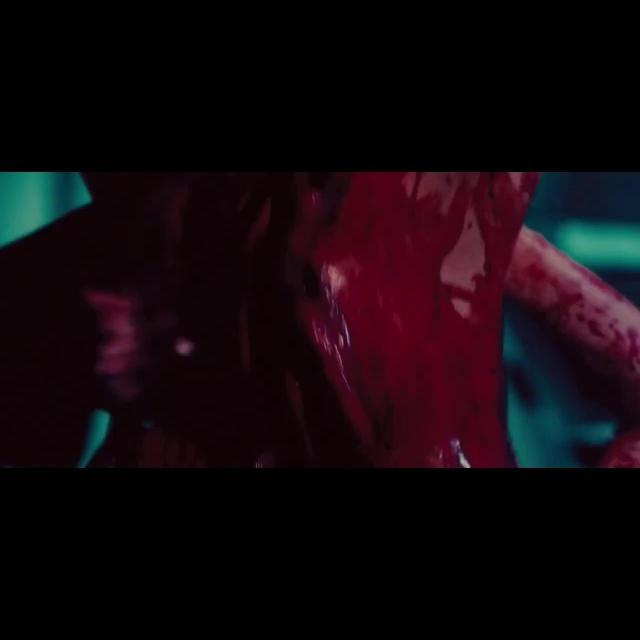blood: (79, 172, 640, 469)
